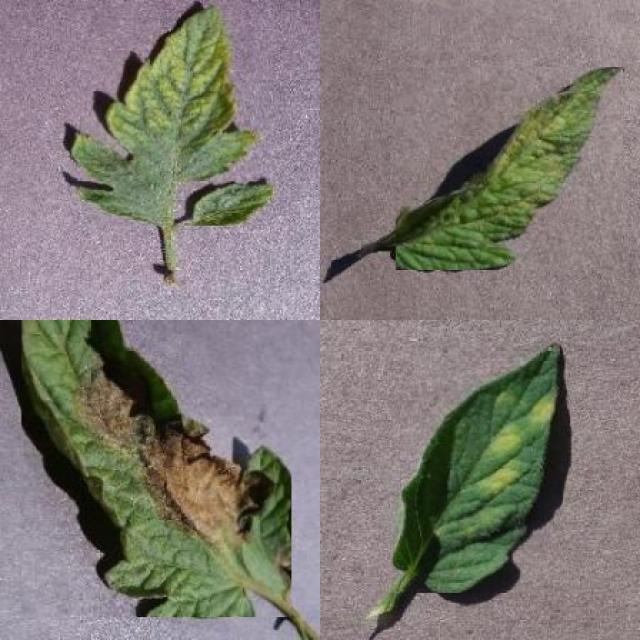Late Blight: (22, 320, 292, 617)
Leaf Mold: (396, 68, 623, 271), (392, 341, 564, 593)
Mosaic Virus: (70, 3, 273, 226)
